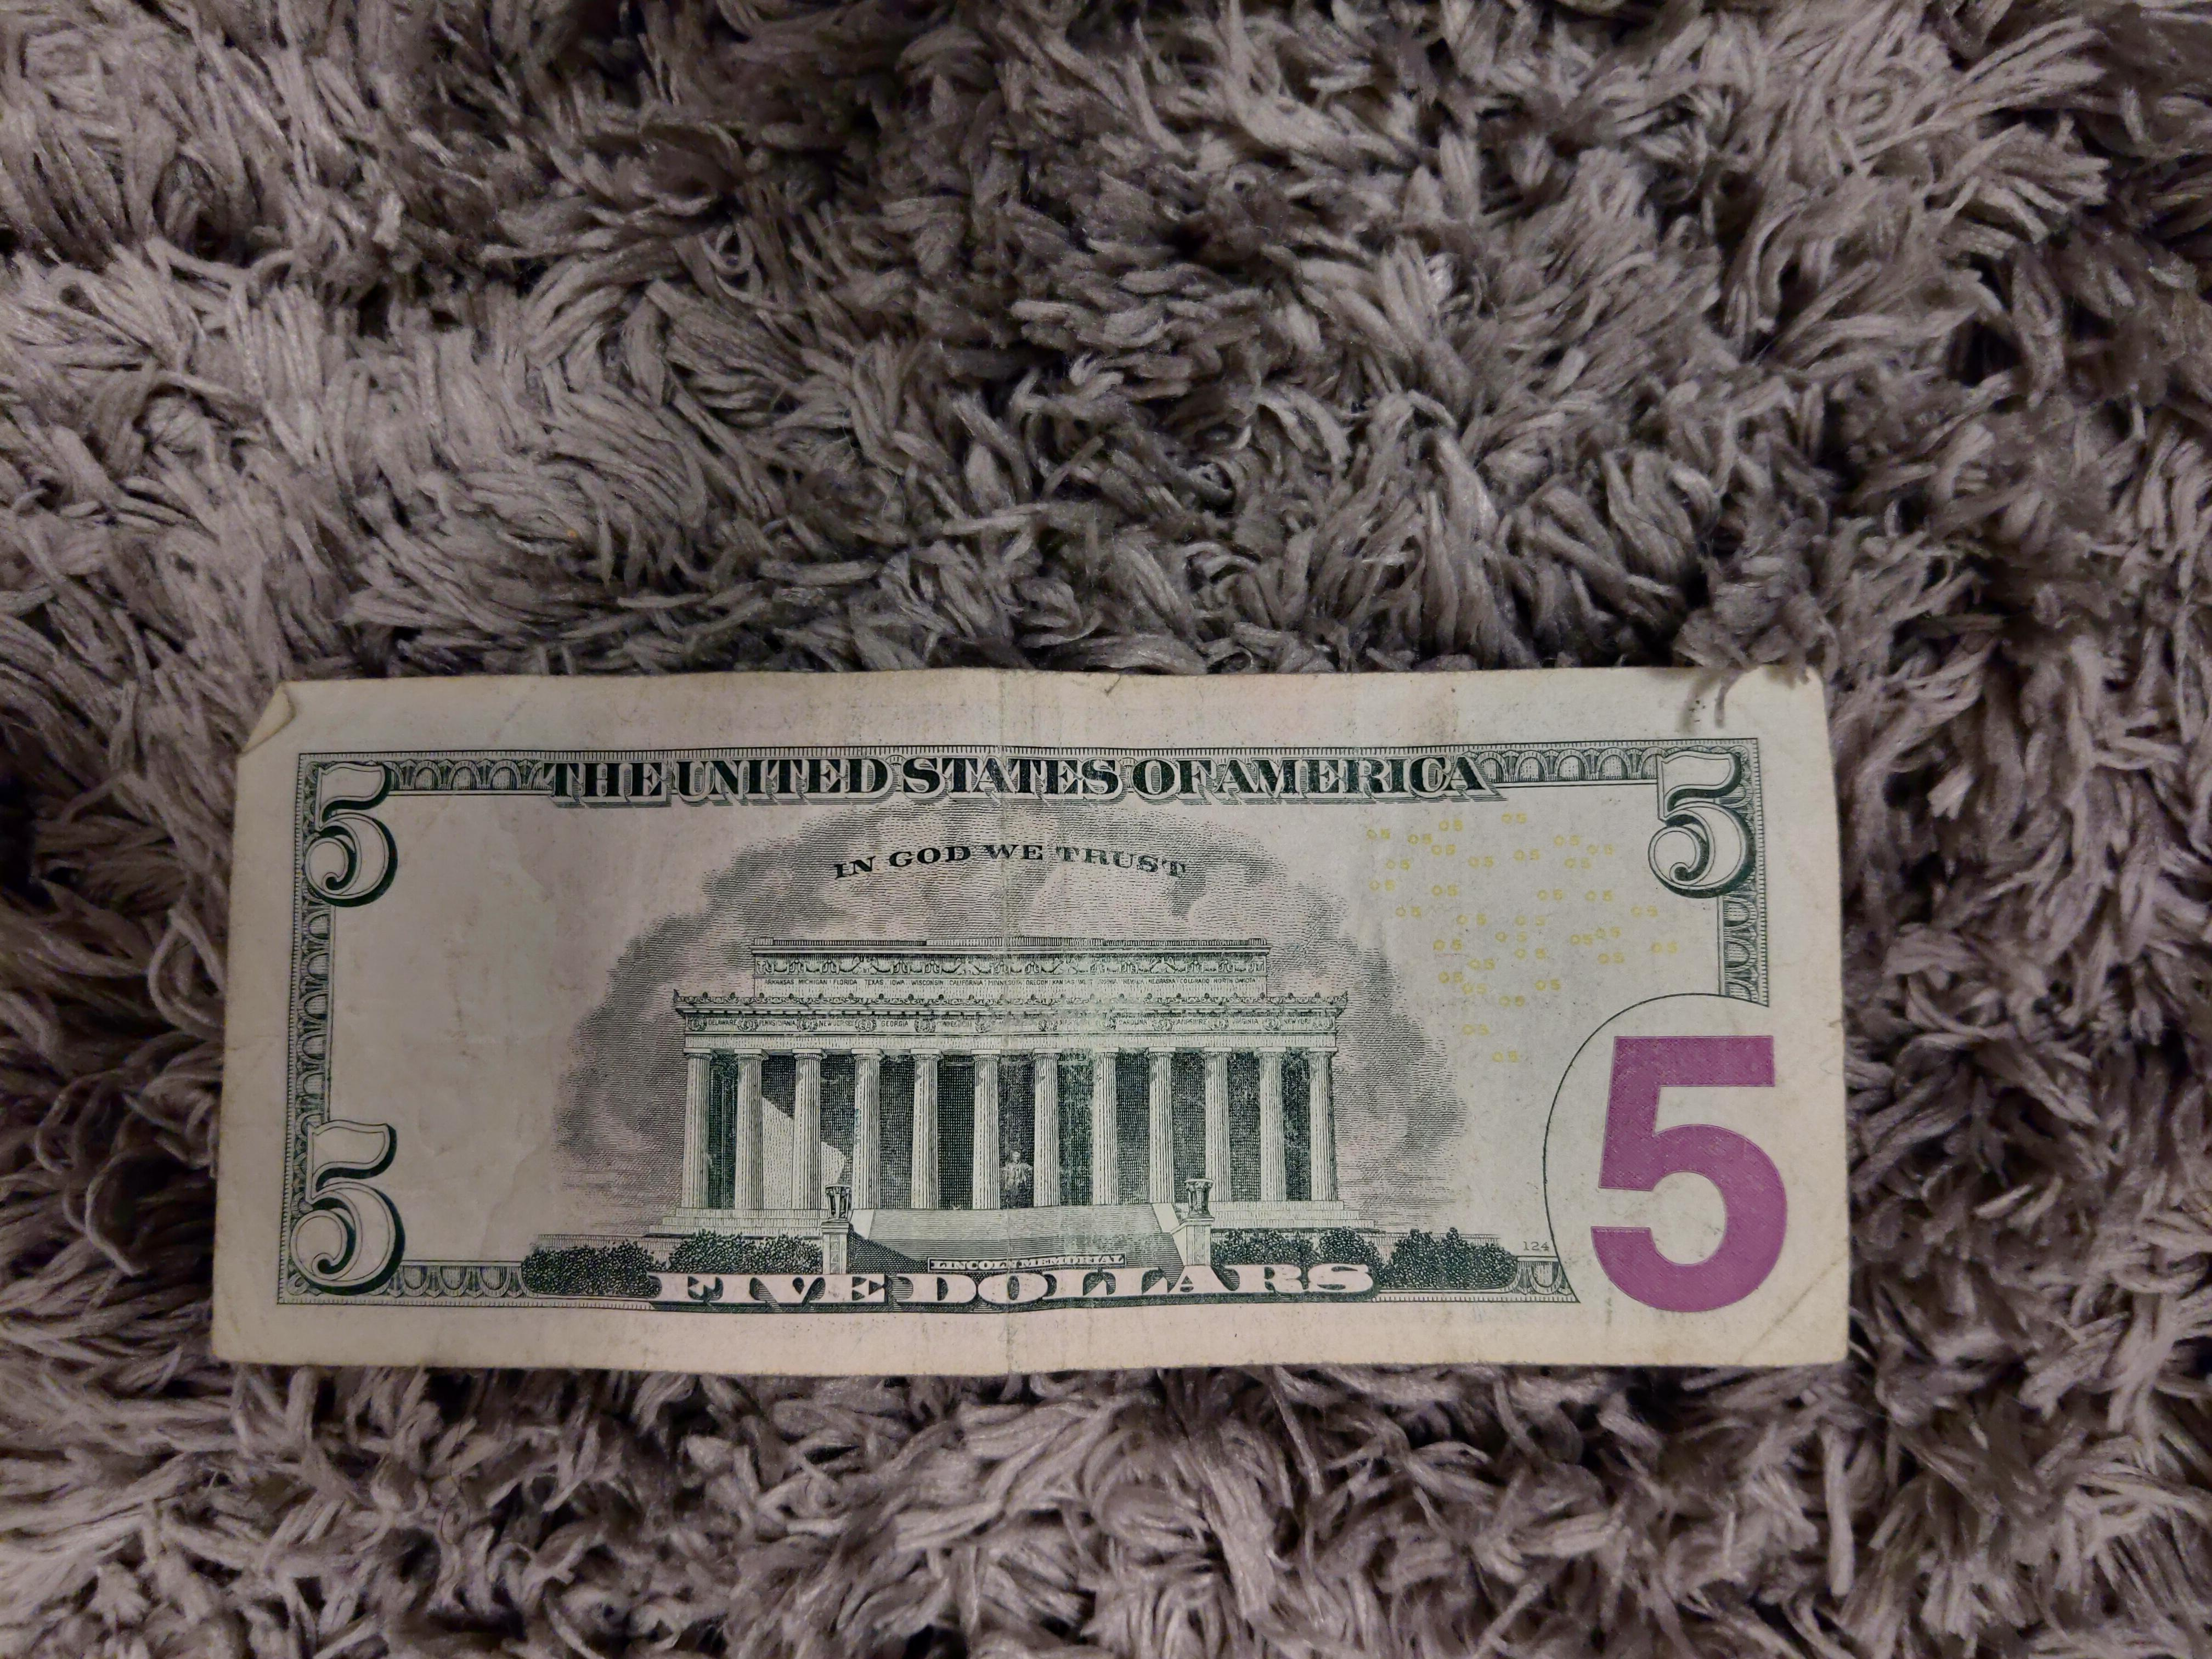FiveBill: (209, 669, 1851, 1382)
